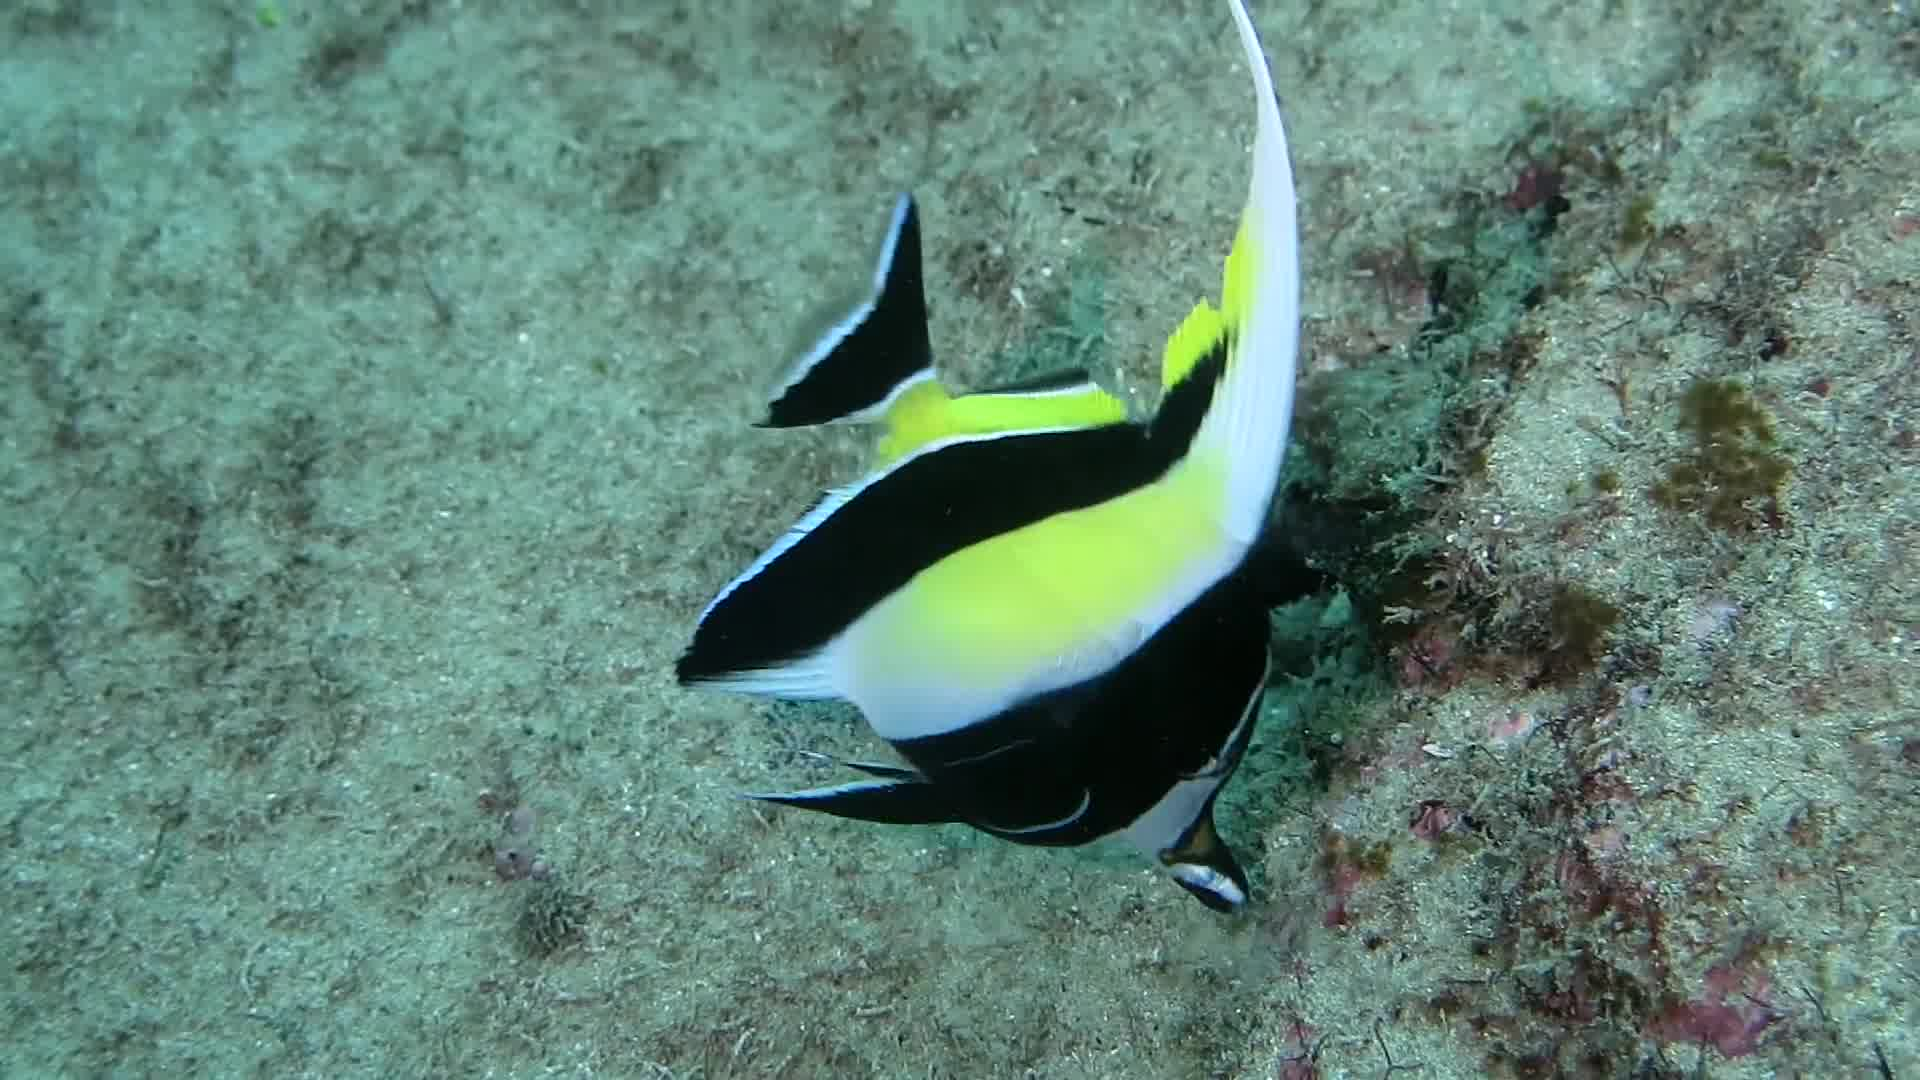Zanclus cornutus: (659, 212, 1389, 934)
